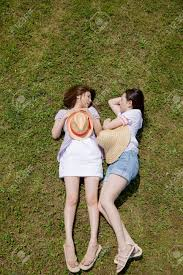no-mask: (116, 85, 141, 118), (72, 82, 93, 114)
